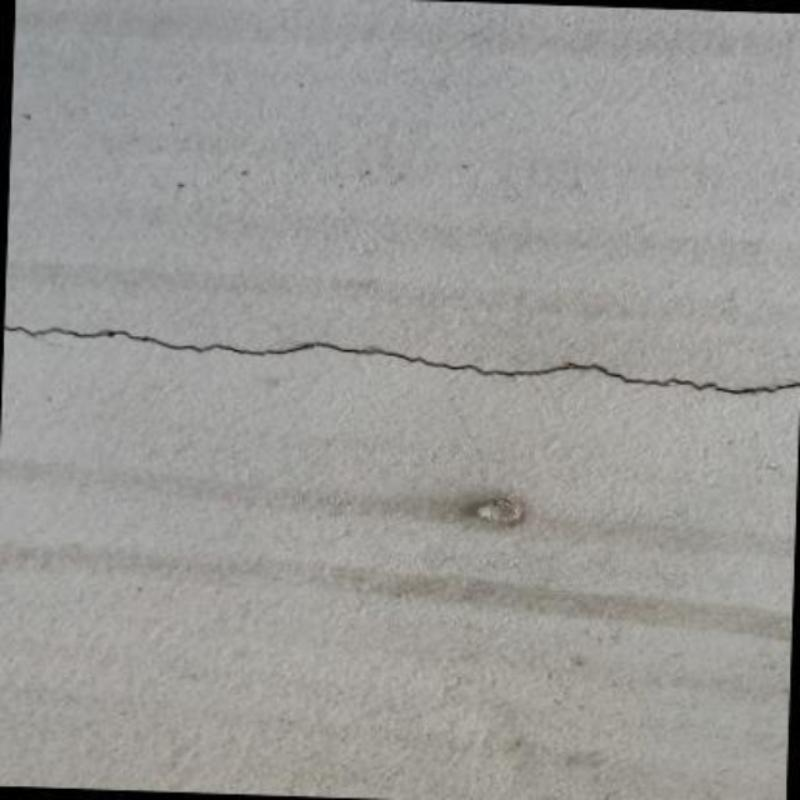pothole: (2, 324, 800, 396)
